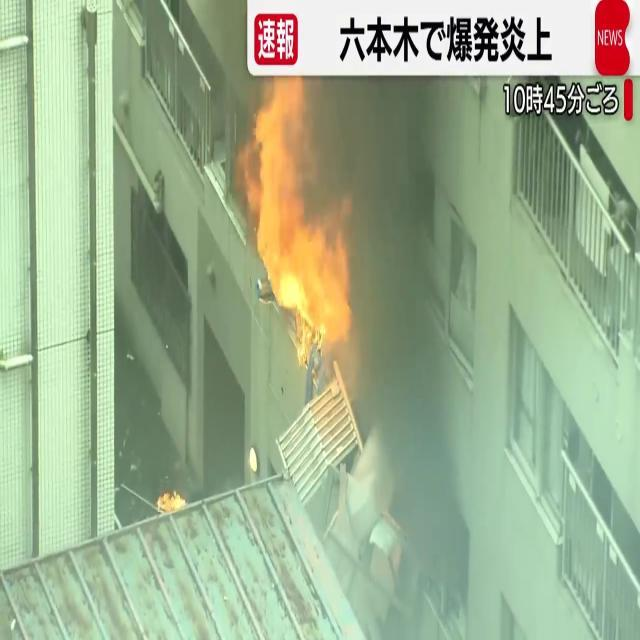Fire: (246, 80, 352, 372)
